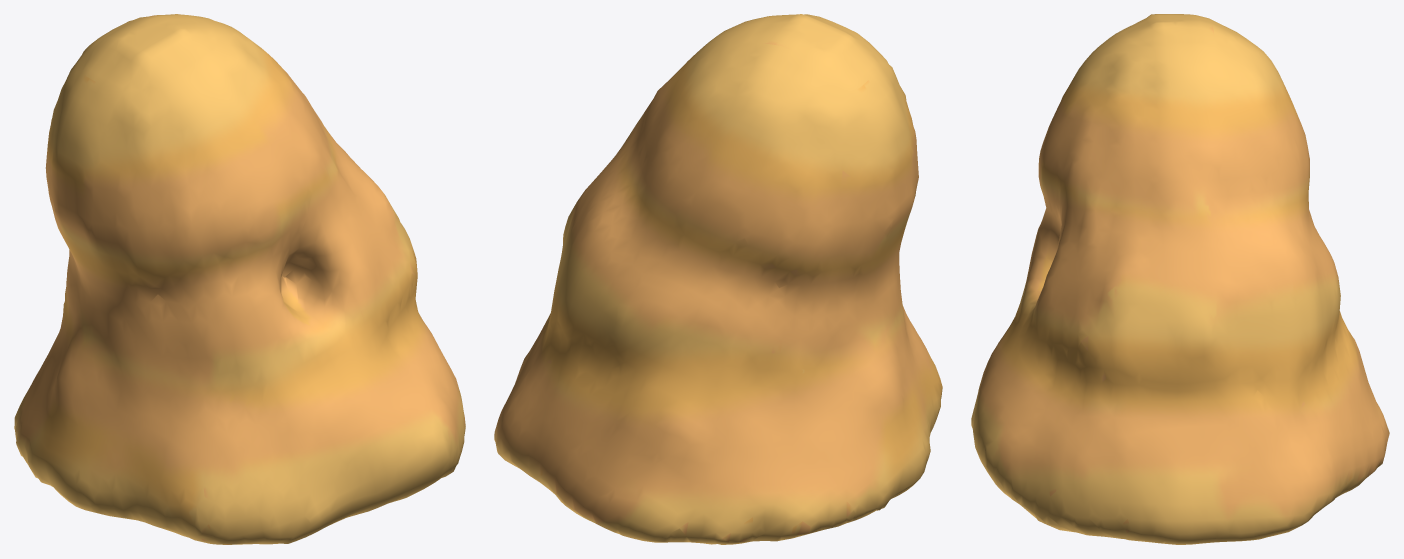
The model's file is hive1.fbx.
3 renders of one model, left to right at view 1: azimuth 30°, elevation 25°; view 2: azimuth 150°, elevation 25°; view 3: azimuth 270°, elevation 25°, orthographic. The views are drawn at different scales.
Visible parts, largest first — view 1: Sphere.002; view 2: Sphere.002; view 3: Sphere.002.
Boxes of the visible parts, <box> form: Sphere.002: <box>14,14,465,544</box>; Sphere.002: <box>494,14,942,544</box>; Sphere.002: <box>971,14,1389,544</box>.
Bounding box in the file's own units: 222 × 258 × 230.
Materials: 1 (1 with a texture image).
